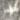plane: (1, 1, 20, 20)
